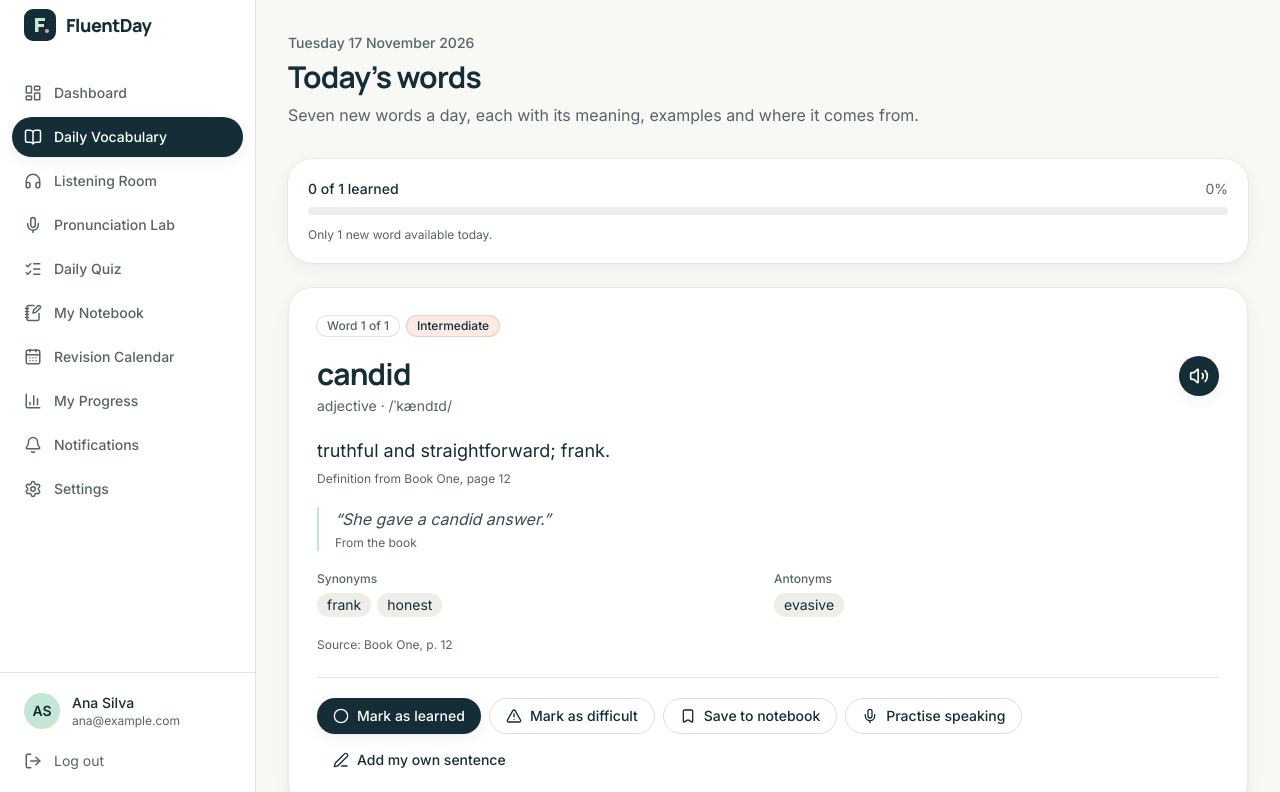
Test: daily vocabulary › saves my own sentence
The image size is (1280, 792).
Step 1. Click the button "Add my own sentence" → (419, 760), box x1=317 y1=742 x2=522 y2=778
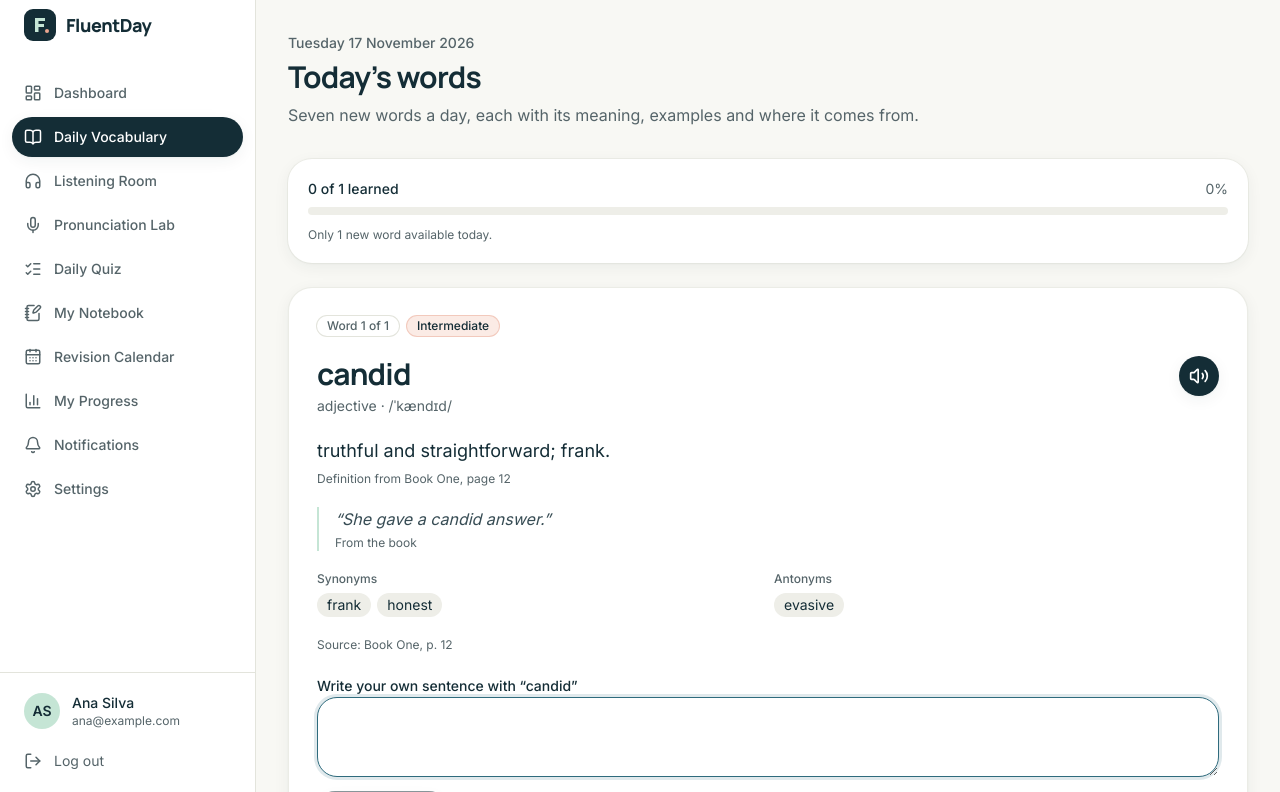
Step 2. Type "I like candid people." into the text box labelled "Write your own sentence with “candid”" → (768, 737), box x1=317 y1=697 x2=1219 y2=777
(page scrolled)
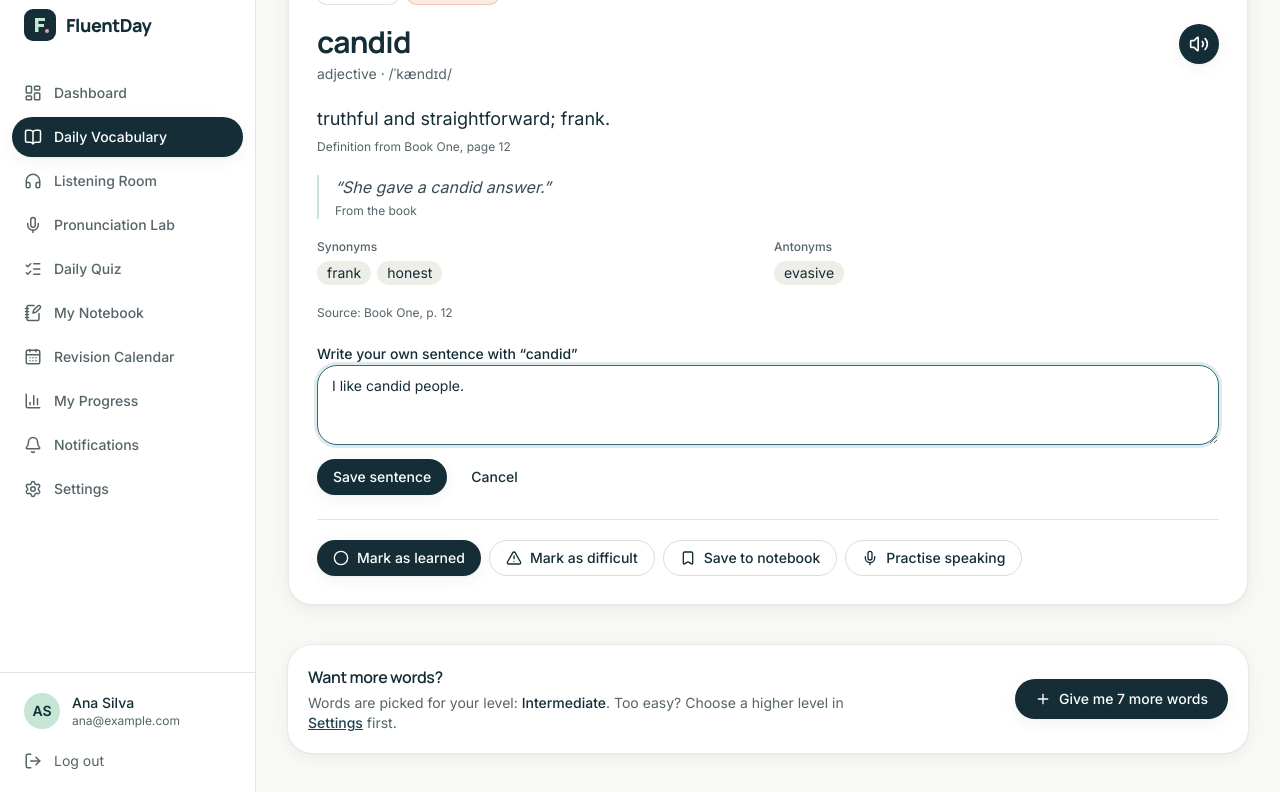
Step 3. Click the button "Save sentence" → (382, 477), box x1=317 y1=459 x2=447 y2=495
(page scrolled)
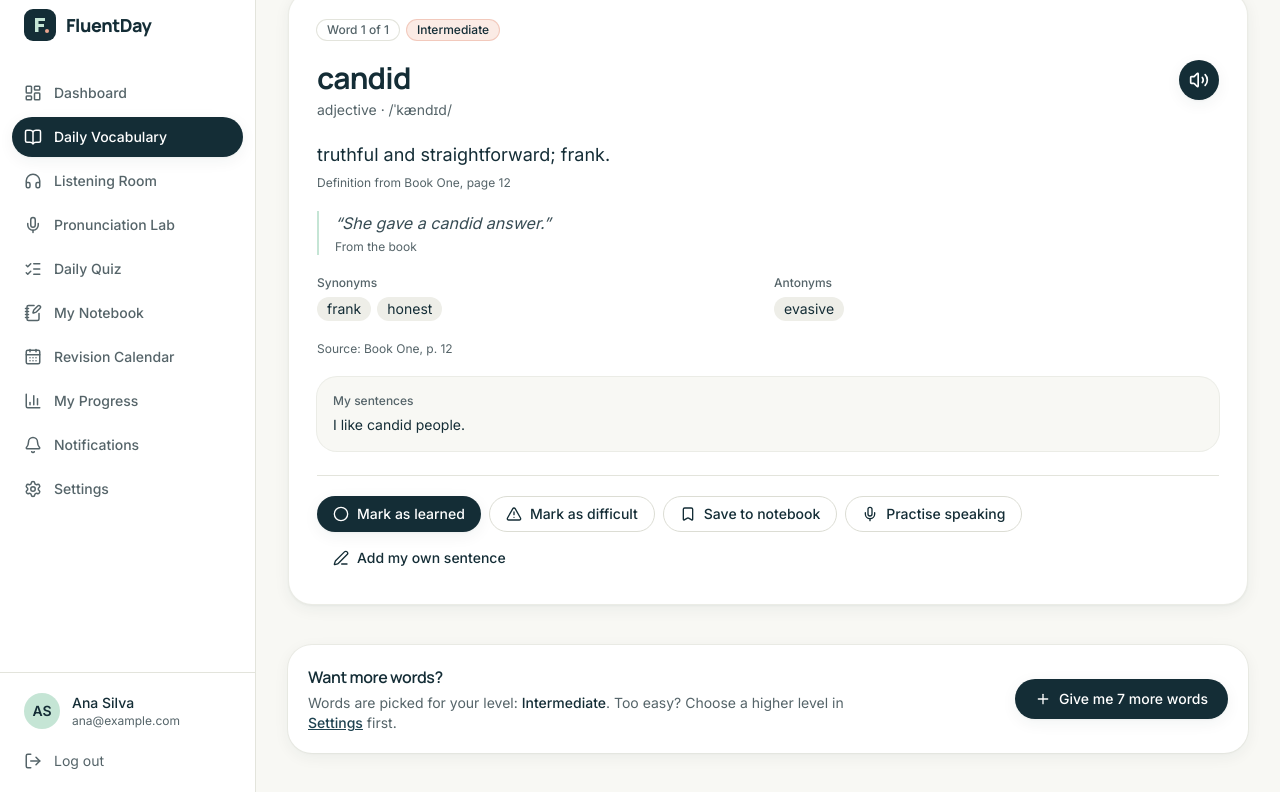
Expected: the text "My sentences" is shown, x1=333 y1=393 x2=414 y2=408
Expected: the label labelled "Write your own sentence" is gone
